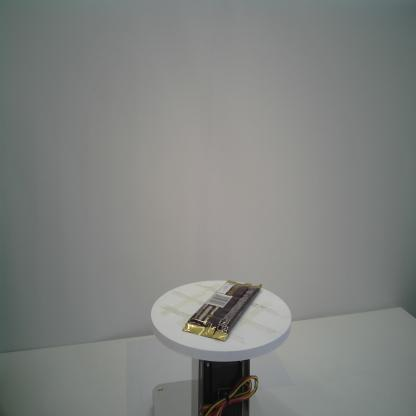Chocolate: (181, 278, 263, 345)
